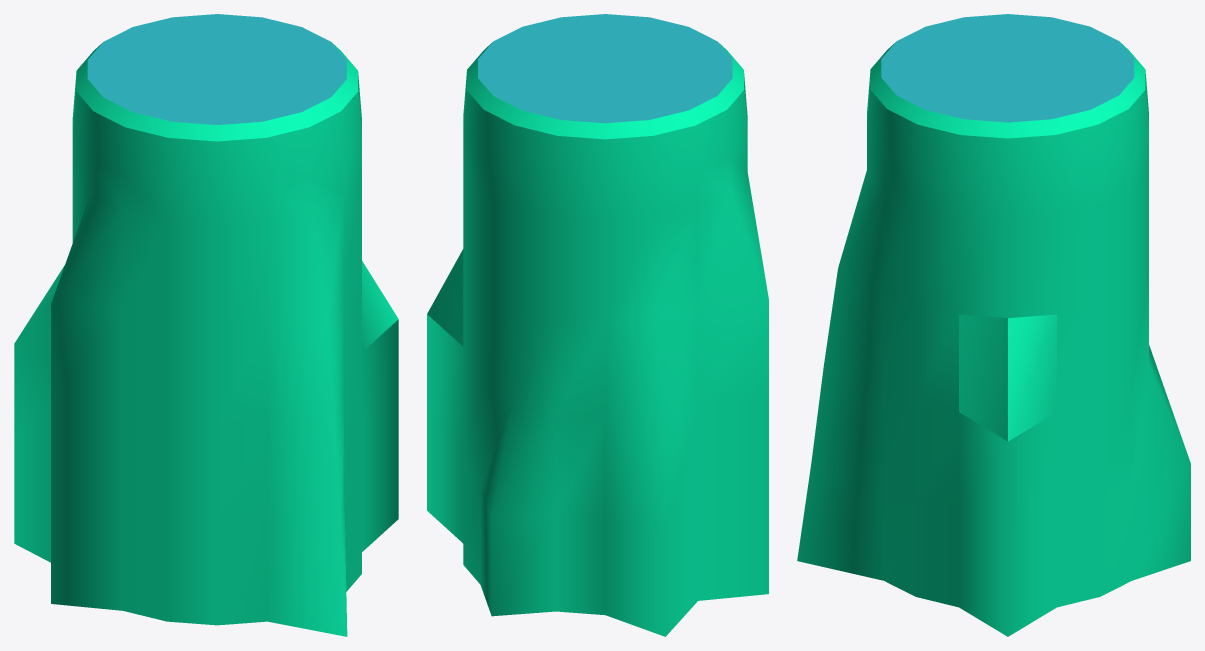
The model's file is Tree Stump 4.fbx.
3 renders of one model, left to right at view 1: azimuth 30°, elevation 25°; view 2: azimuth 150°, elevation 25°; view 3: azimuth 270°, elevation 25°, orthographic. The views are drawn at different scales.
Visible parts, largest first — view 1: Tree Stump 4; view 2: Tree Stump 4; view 3: Tree Stump 4.
Boxes of the visible parts, box(x1,y1,x2,y2) form: Tree Stump 4: box(14, 14, 398, 636); Tree Stump 4: box(427, 14, 768, 636); Tree Stump 4: box(797, 14, 1190, 636).
Size of the model in its own units: 26.64 by 36.16 by 26.75.
Materials: 2 (2 with a texture image).
